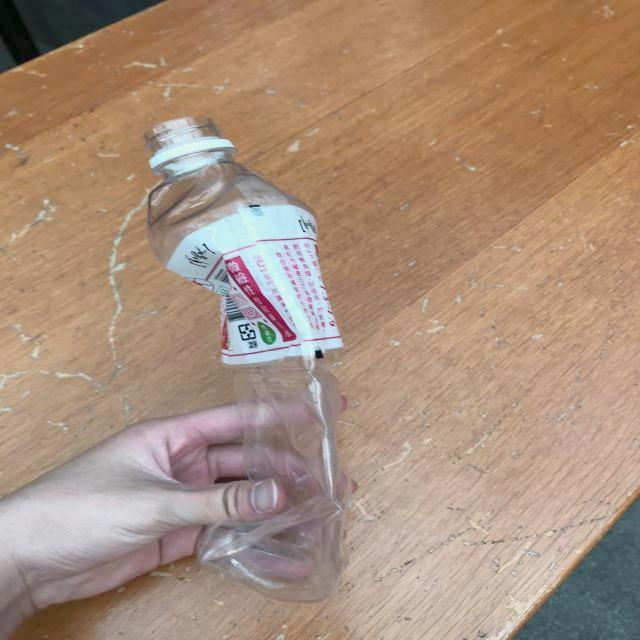bottle: (143, 117, 349, 603)
